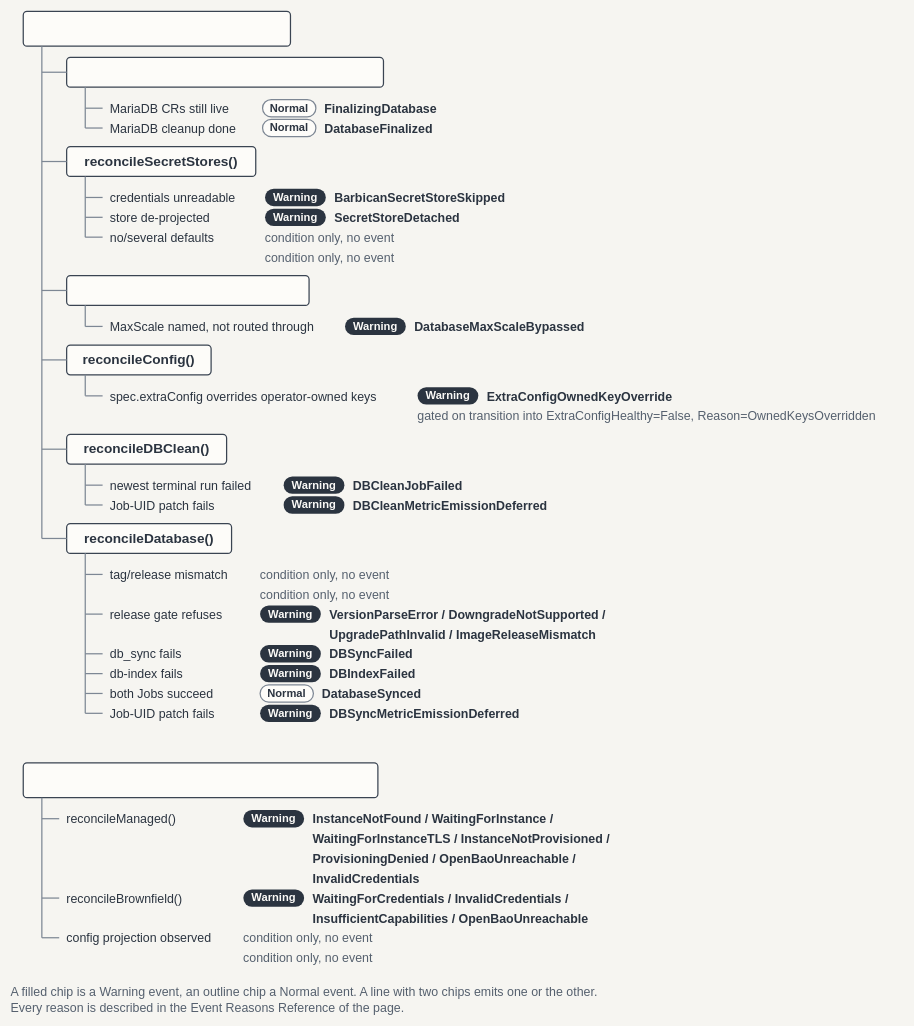
The diagram is 914 pixels wide and 1026 high, and some of its shapes have lost their labels. The centre of each missing label's shape, as x and y in pixels:
BarbicanReconciler.Reconcile(): point (156, 28)
BarbicanSecretStoreReconciler.Reconcile(): point (200, 780)
reconcileDBConnectionSecret(): point (187, 290)
reconcileDelete() (deletionTimestamp set): point (225, 71)
